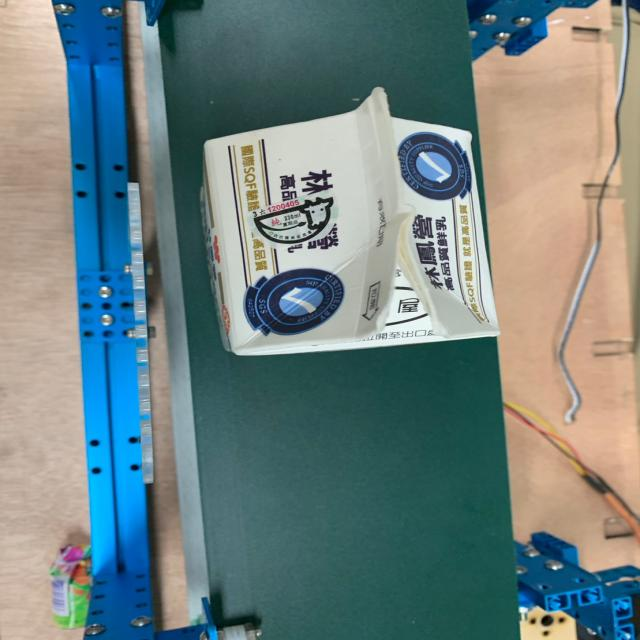non_white_jug: (199, 70, 524, 377)
